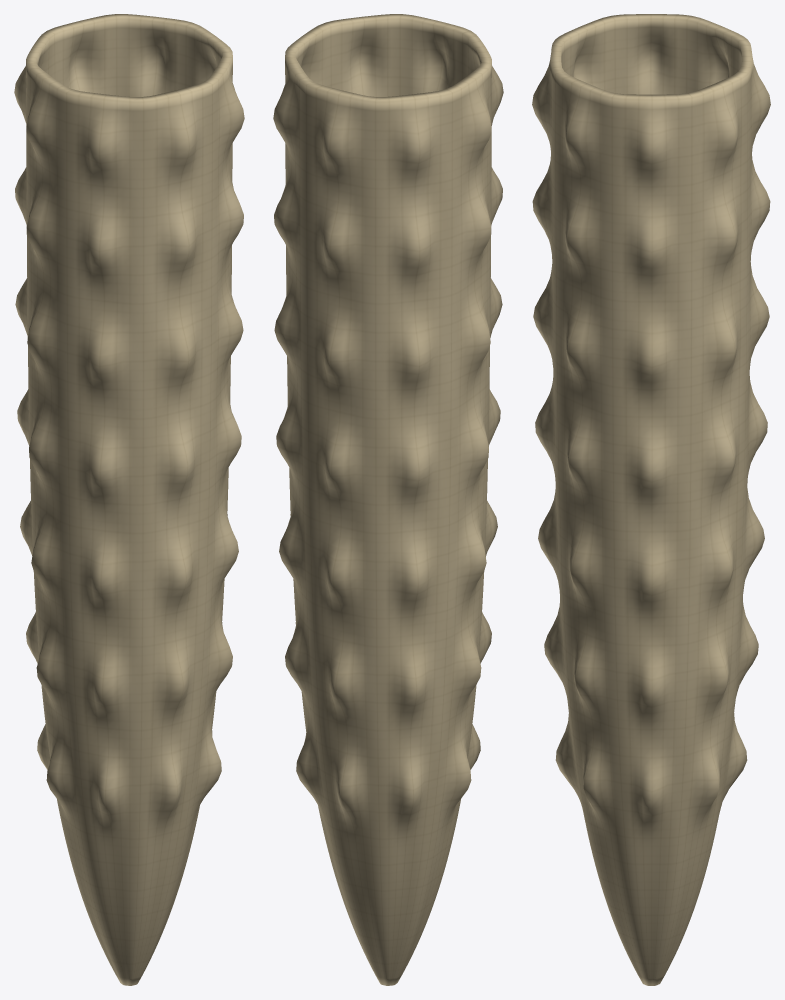
The picture shows the model from 3 angles, left to right: view 1: azimuth 30°, elevation 25°; view 2: azimuth 150°, elevation 25°; view 3: azimuth 270°, elevation 25°; orthographic projection.
Visible parts, largest first — view 1: Hydnoceras | inferred living vase reconstruction; view 2: Hydnoceras | inferred living vase reconstruction; view 3: Hydnoceras | inferred living vase reconstruction.
Boxes of the visible parts, box(x1,y1,x2,y2) form: Hydnoceras | inferred living vase reconstruction: box(14, 14, 244, 985); Hydnoceras | inferred living vase reconstruction: box(273, 14, 503, 985); Hydnoceras | inferred living vase reconstruction: box(532, 14, 770, 985).
Size of the model in its own units: 0.2338 by 1 by 0.2338.
1 material, 1 textured.
